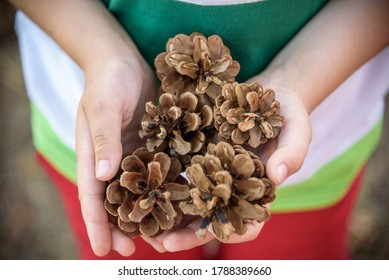Pc: (190, 142, 276, 240), (108, 150, 194, 238), (146, 35, 235, 102), (136, 89, 210, 154), (211, 84, 283, 148)
